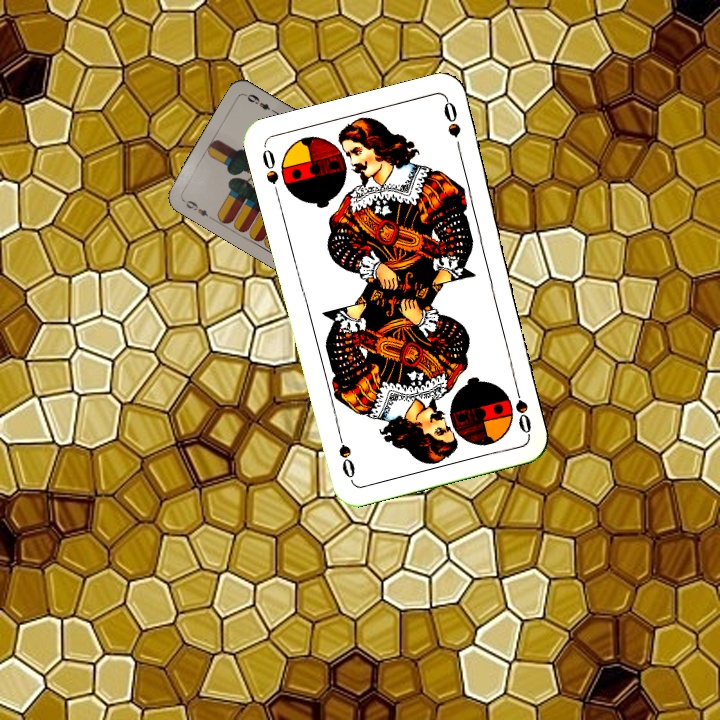E9: (179, 196, 216, 222)
SO: (509, 378, 534, 437), (258, 143, 283, 201)
